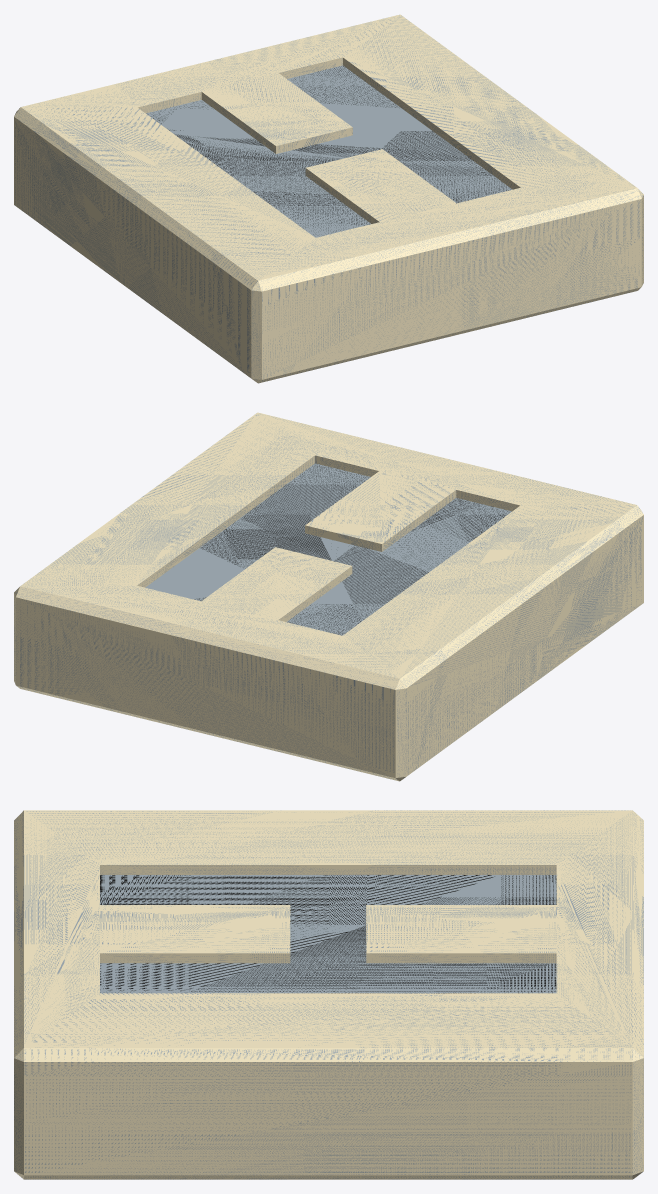
File: Boardgame_Anagram_Tile_H.fbx
The picture shows the model from 3 angles, top to bottom: view 1: azimuth 30°, elevation 25°; view 2: azimuth 150°, elevation 25°; view 3: azimuth 270°, elevation 25°; orthographic projection. The views are drawn at different scales.
Visible parts, largest first — view 1: Model; view 2: Model; view 3: Model.
Part boxes in pixels (left/top/right/bottom): Model: left=14, top=14, right=643, bottom=383; Model: left=14, top=412, right=643, bottom=781; Model: left=14, top=810, right=643, bottom=1179.
Bounding box in the file's own units: 195 × 48.83 × 212.
